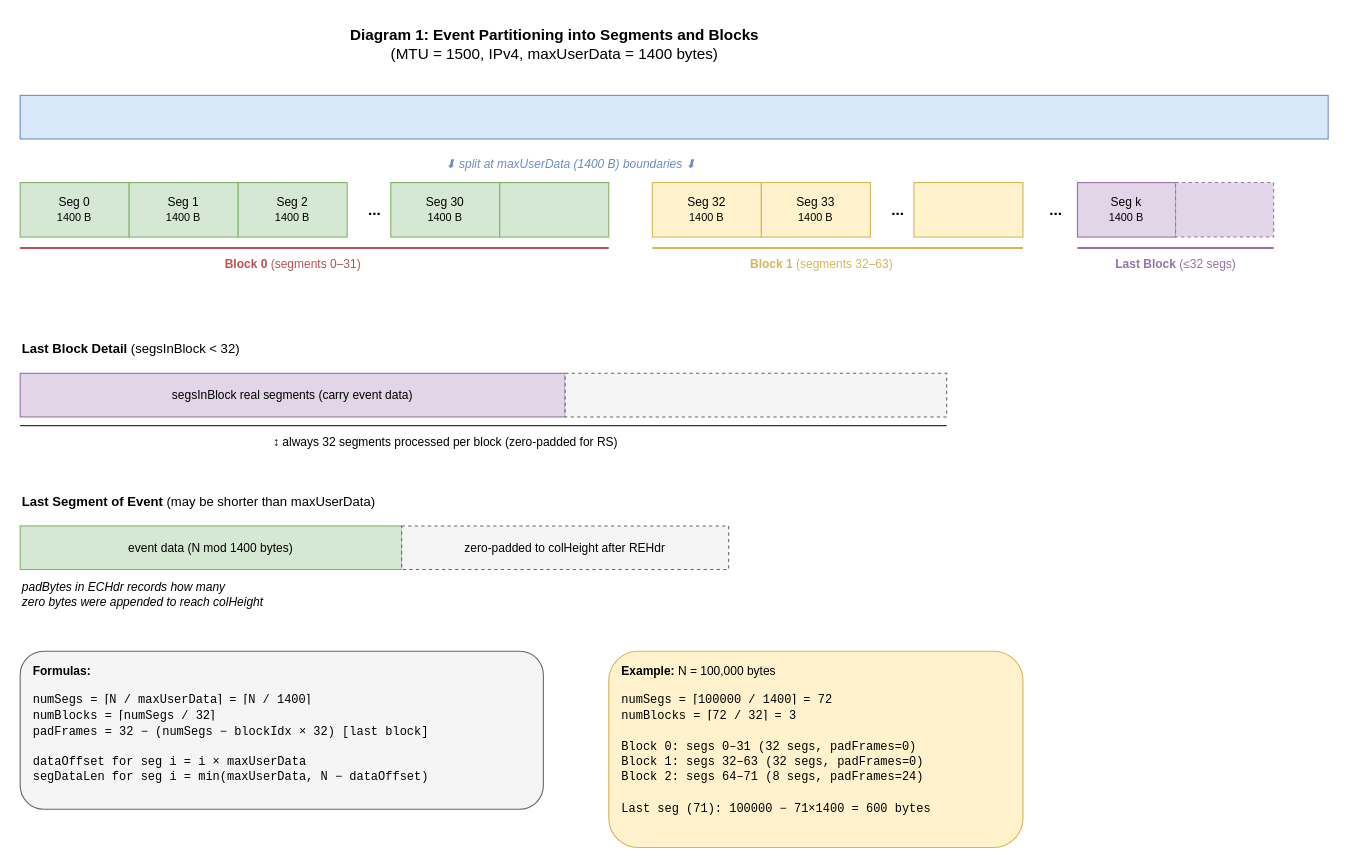
Some shapes in this 1347 by 867 pixel diagram are drawn without their labels. Here are the shapes that lost their labels. From the top down, the centre of each, then its label:
(x=673, y=116): Event Buffer (N bytes)
(x=554, y=209): Seg 31 1400 B
(x=968, y=209): Seg 63 1400 B
(x=1224, y=209): Seg k+1 ≤1400 B
(x=755, y=394): padFrames = 32 − segsInBlock (all zeros)
